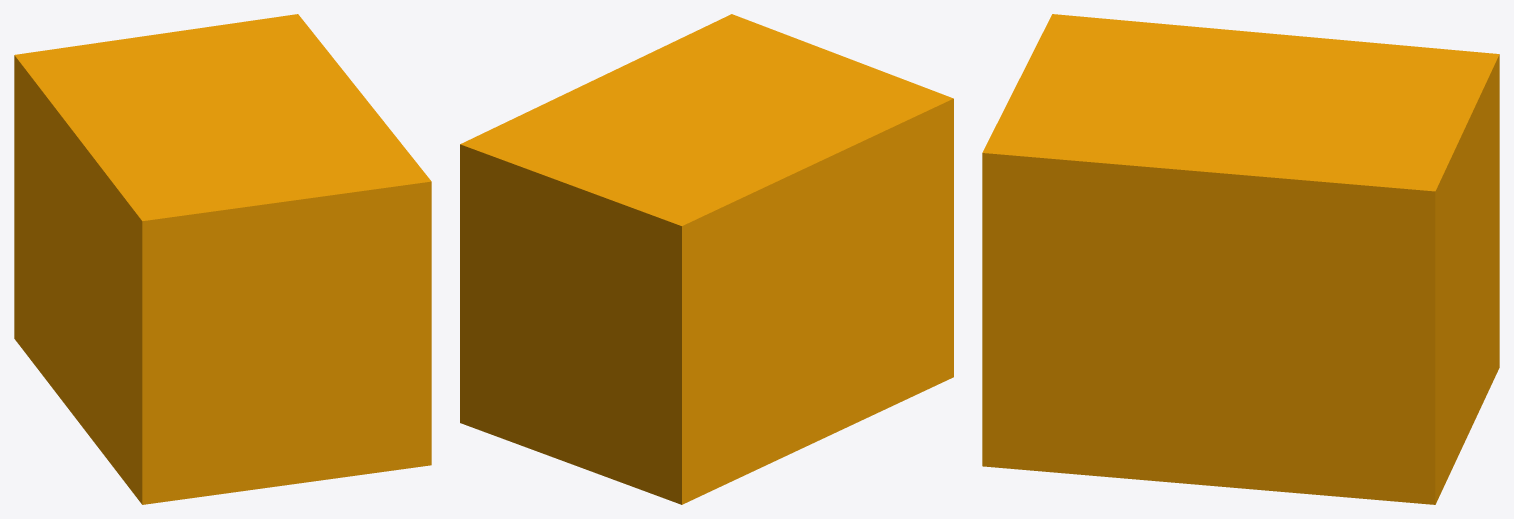
Rendered from DEHB01ALn0001NVO.gltf.
The picture shows the model from 3 angles, left to right: view 1: azimuth 30°, elevation 25°; view 2: azimuth 150°, elevation 25°; view 3: azimuth 270°, elevation 25°; orthographic projection. The views are drawn at different scales.
Parts seen in each view (by area): view 1: Z_UP; view 2: Z_UP; view 3: Z_UP.
Boxes of the visible parts, x1,y1,x2,y2 form: Z_UP: [14, 14, 431, 504]; Z_UP: [460, 14, 953, 504]; Z_UP: [982, 14, 1499, 504].
Bounding box in the file's own units: 1.73 × 1.43 × 2.14.
